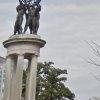Statue: (7, 2, 54, 57)
